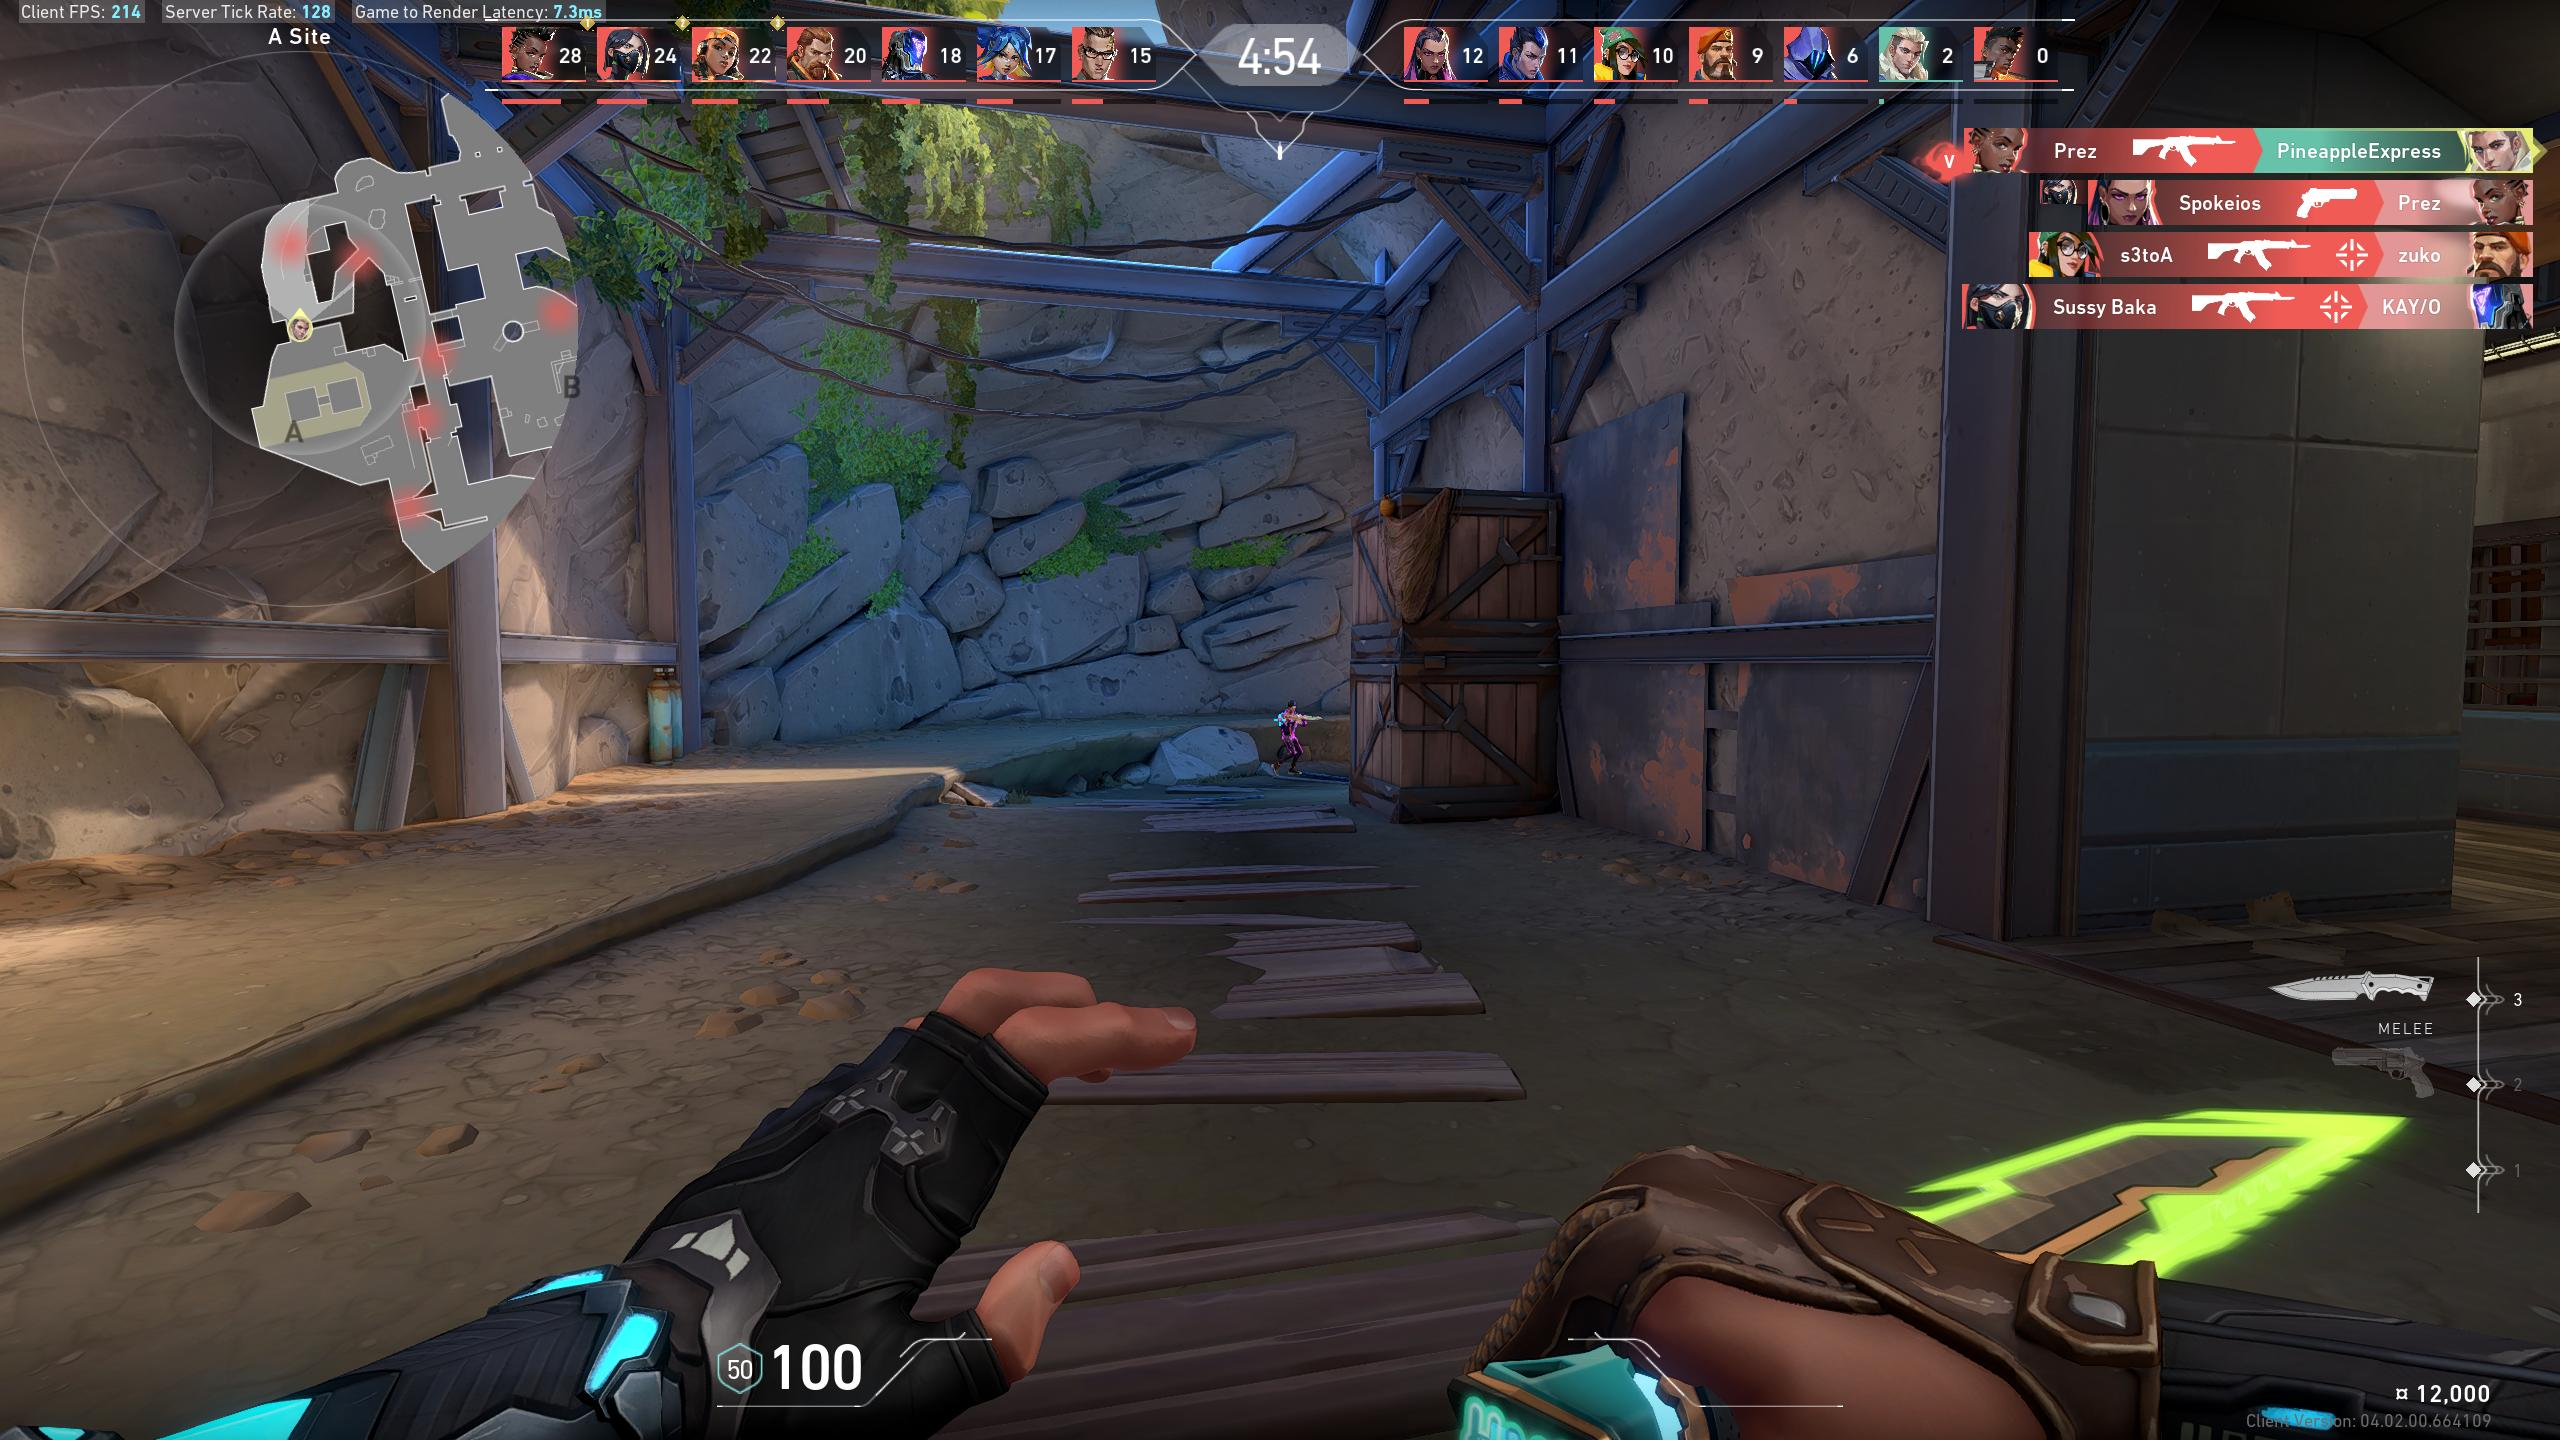enemyBody: (1284, 714, 1294, 731)
enemyHead: (1289, 703, 1294, 712)
